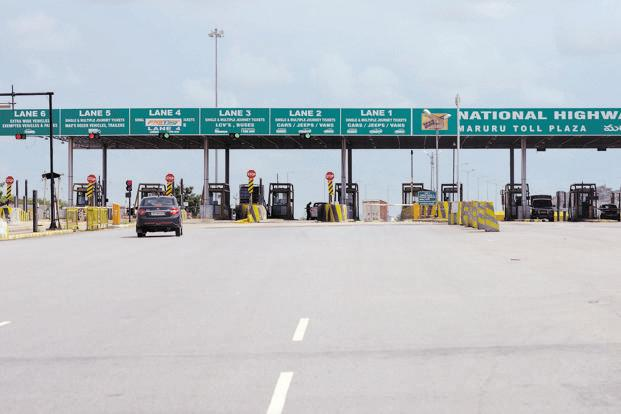toll plaza: (201, 99, 621, 223), (5, 95, 621, 141)
